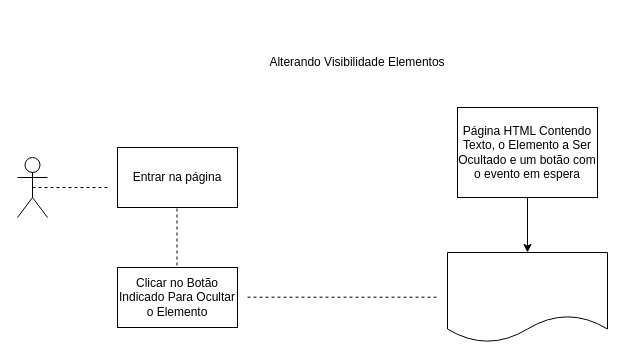
Image size: 625x360. Some labels were removed from this diagram. The centre of each missing label's shape, as x and y in pixels:
"Actor" belongs at (32,187).
"Ocultar Elemento" belongs at (527,297).
